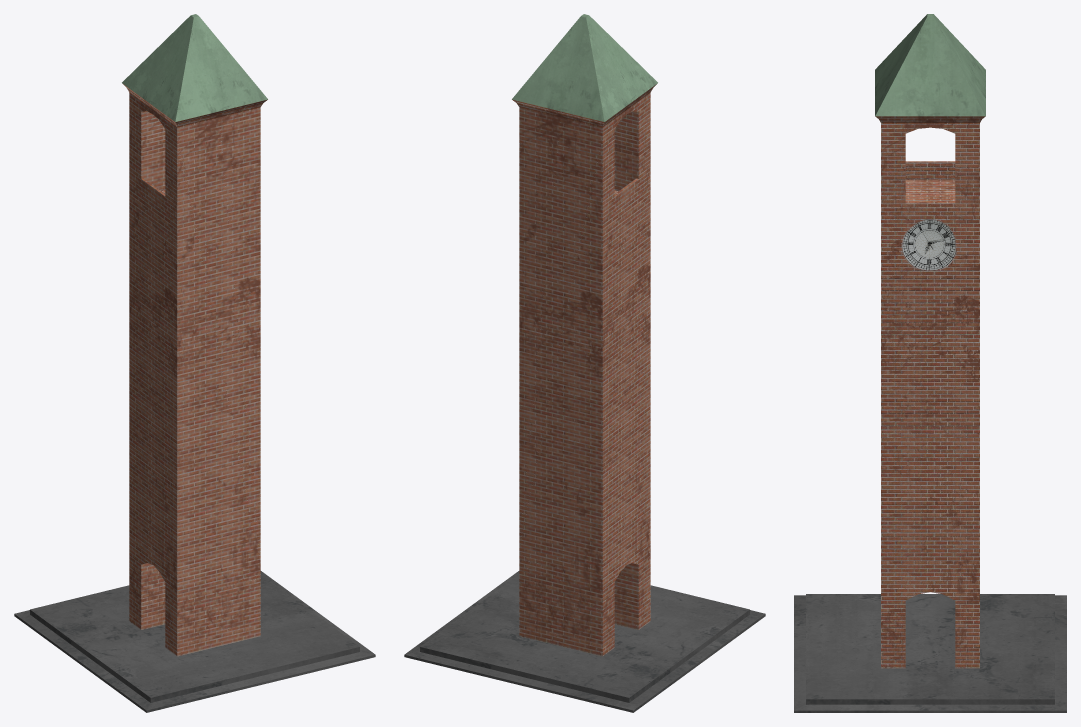
File: saatkulesi.fbx
3 renders of one model, left to right at view 1: azimuth 30°, elevation 25°; view 2: azimuth 150°, elevation 25°; view 3: azimuth 270°, elevation 25°, orthographic. The views are drawn at different scales.
Visible parts, largest first — view 1: Cube, Cube.002, Cube.001; view 2: Cube, Cube.002, Cube.001; view 3: Cube, Cube.002, Cube.001.
Boxes of the visible parts, x1,y1,x2,y2 form: Cube: (123,84,267,656); Cube.002: (14,571,375,712); Cube.001: (122,14,267,121); Cube: (512,84,656,656); Cube.002: (404,571,765,712); Cube.001: (512,14,657,121); Cube: (875,116,985,668); Cube.002: (794,594,1066,712); Cube.001: (875,14,985,116).
Bounding box in the file's own units: 2426 × 6292 × 2426.
Materials: 3 (3 with a texture image).
